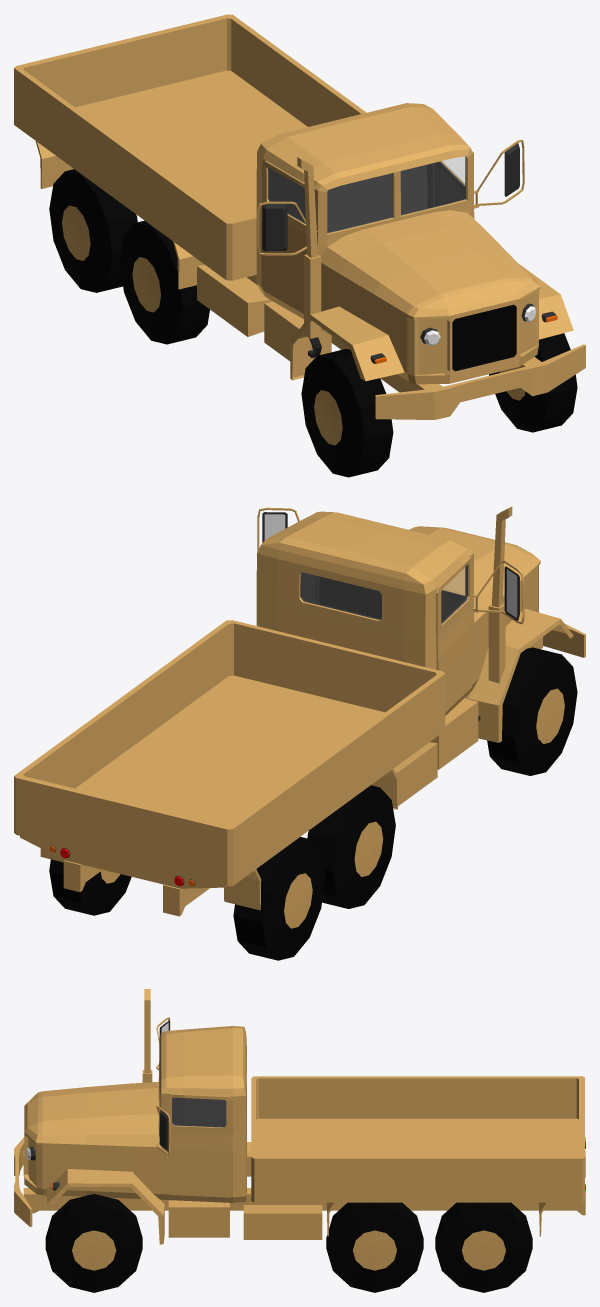
The picture shows the model from 3 angles, top to bottom: view 1: azimuth 30°, elevation 25°; view 2: azimuth 150°, elevation 25°; view 3: azimuth 270°, elevation 25°; orthographic projection. The views are drawn at different scales.
Visible parts, largest first — view 1: Plane.024, Plane.027, Cylinder.024, Cylinder.023, Cylinder.022, Plane.026, Plane.029, Plane.030, Cylinder.021, Cylinder.027, Plane.031; view 2: Plane.024, Plane.027, Cylinder.024, Cylinder.023, Cylinder.022, Plane.030, Plane.026, Cylinder.026, Plane.029, Cylinder.027; view 3: Plane.024, Cylinder.021, Cylinder.026, Cylinder.025, Plane.031, Plane.030, Cylinder.027, Plane.027.
Boxes of the visible parts, x1=… form: Plane.024: x1=14, y1=14, x2=585, y2=419; Plane.027: x1=27, y1=17, x2=220, y2=107; Cylinder.024: x1=301, y1=348, x2=393, y2=477; Cylinder.023: x1=49, y1=169, x2=137, y2=292; Cylinder.022: x1=119, y1=220, x2=209, y2=344; Plane.026: x1=328, y1=157, x2=465, y2=232; Plane.029: x1=269, y1=156, x2=465, y2=232; Plane.030: x1=261, y1=160, x2=307, y2=313; Cylinder.021: x1=489, y1=333, x2=577, y2=432; Cylinder.027: x1=297, y1=157, x2=321, y2=357; Plane.031: x1=433, y1=147, x2=471, y2=206; Plane.024: x1=14, y1=507, x2=585, y2=916; Plane.027: x1=27, y1=778, x2=219, y2=883; Cylinder.024: x1=487, y1=647, x2=577, y2=775; Cylinder.023: x1=233, y1=837, x2=325, y2=960; Cylinder.022: x1=307, y1=785, x2=395, y2=908; Plane.030: x1=436, y1=557, x2=473, y2=711; Plane.026: x1=301, y1=568, x2=464, y2=618; Cylinder.026: x1=49, y1=859, x2=131, y2=915; Plane.029: x1=300, y1=566, x2=465, y2=621; Cylinder.027: x1=478, y1=506, x2=512, y2=720; Plane.024: x1=14, y1=1017, x2=585, y2=1244; Cylinder.021: x1=45, y1=1194, x2=142, y2=1292; Cylinder.026: x1=435, y1=1202, x2=532, y2=1292; Cylinder.025: x1=326, y1=1202, x2=423, y2=1292; Plane.031: x1=166, y1=1094, x2=232, y2=1197; Plane.030: x1=172, y1=1097, x2=226, y2=1126; Cylinder.027: x1=142, y1=989, x2=152, y2=1082; Plane.027: x1=579, y1=1081, x2=584, y2=1153.
Bounding box in the file's own units: 293 × 303 × 702.
